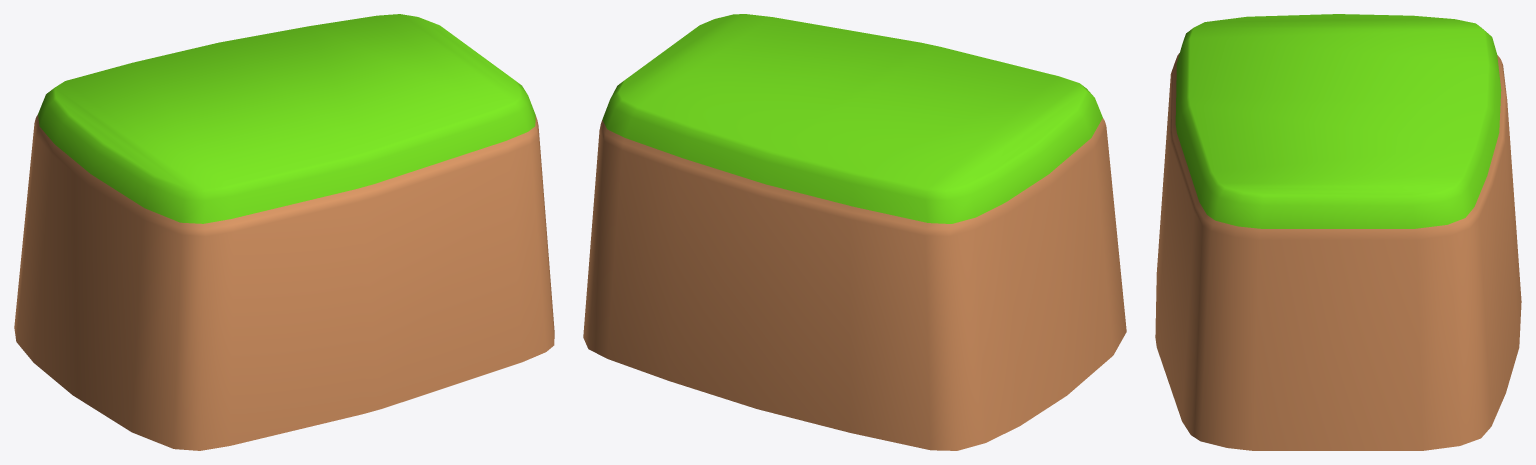
Rendered from Hill_1.fbx.
3 views of the same model, side by side, from view 1: azimuth 30°, elevation 25°; view 2: azimuth 150°, elevation 25°; view 3: azimuth 270°, elevation 25° (orthographic).
Parts seen in each view (by area): view 1: Hill_1; view 2: Hill_1; view 3: Hill_1.
Part boxes in pixels (left/top/right/bottom): Hill_1: left=14, top=14, right=554, bottom=450; Hill_1: left=583, top=14, right=1126, bottom=450; Hill_1: left=1155, top=14, right=1521, bottom=450.
Bounding box in the file's own units: 4.05 × 2.19 × 2.99.
